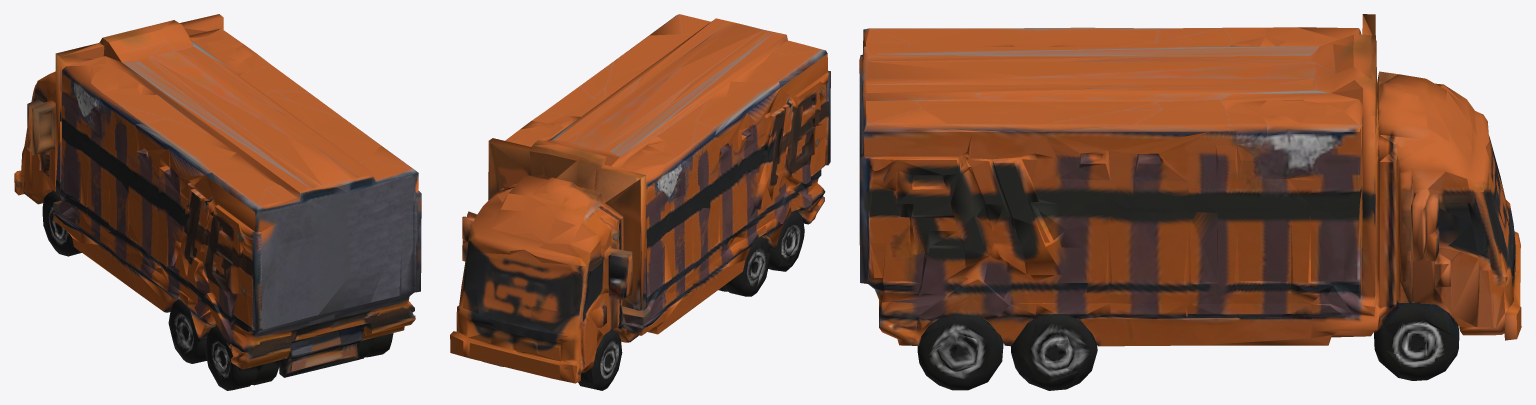
3 views of the same model, side by side, from view 1: azimuth 30°, elevation 25°; view 2: azimuth 150°, elevation 25°; view 3: azimuth 270°, elevation 25° (orthographic). The views are drawn at different scales.
Parts seen in each view (by area): view 1: tripo_node_ae94fd78.005; view 2: tripo_node_ae94fd78.005; view 3: tripo_node_ae94fd78.005.
Part boxes in pixels (bbox=[...]): tripo_node_ae94fd78.005: bbox=[14, 14, 421, 390]; tripo_node_ae94fd78.005: bbox=[450, 14, 830, 390]; tripo_node_ae94fd78.005: bbox=[859, 14, 1521, 390].
Size of the model in its own units: 11.6 by 13.94 by 29.17.
